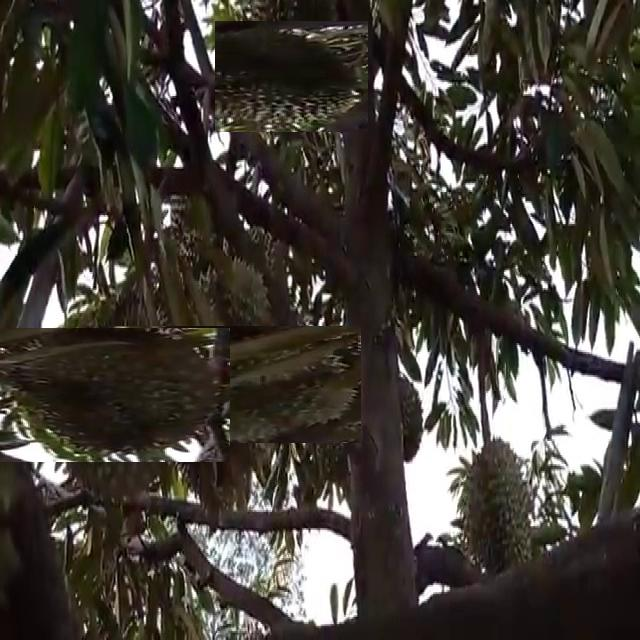durian: (133, 289, 324, 480), (18, 301, 205, 488), (226, 10, 358, 143), (455, 432, 537, 585), (372, 366, 430, 463)
